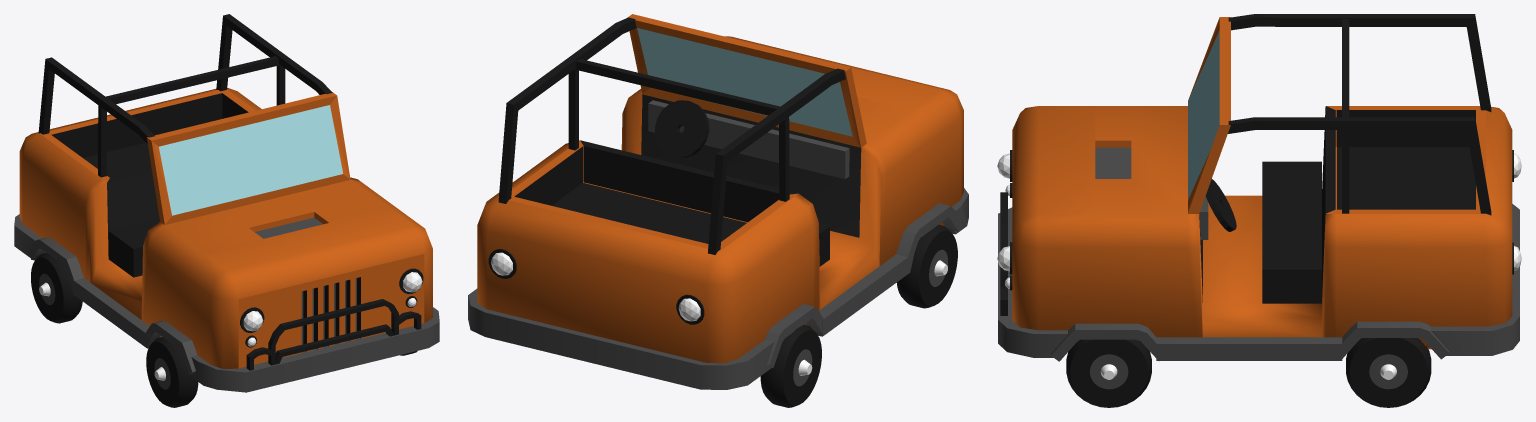
File: fv2QPJ3DJOY.glb
3 renders of one model, left to right at view 1: azimuth 30°, elevation 25°; view 2: azimuth 150°, elevation 25°; view 3: azimuth 270°, elevation 25°, orthographic. The views are drawn at different scales.
Parts seen in each view (by area): view 1: ChamferBox001; view 2: ChamferBox001; view 3: ChamferBox001.
Boxes of the visible parts, x1,y1,x2,y2 form: ChamferBox001: [14, 14, 439, 407]; ChamferBox001: [468, 14, 968, 407]; ChamferBox001: [997, 14, 1521, 407].
Bounding box in the file's own units: 1.16 × 1 × 1.73.
